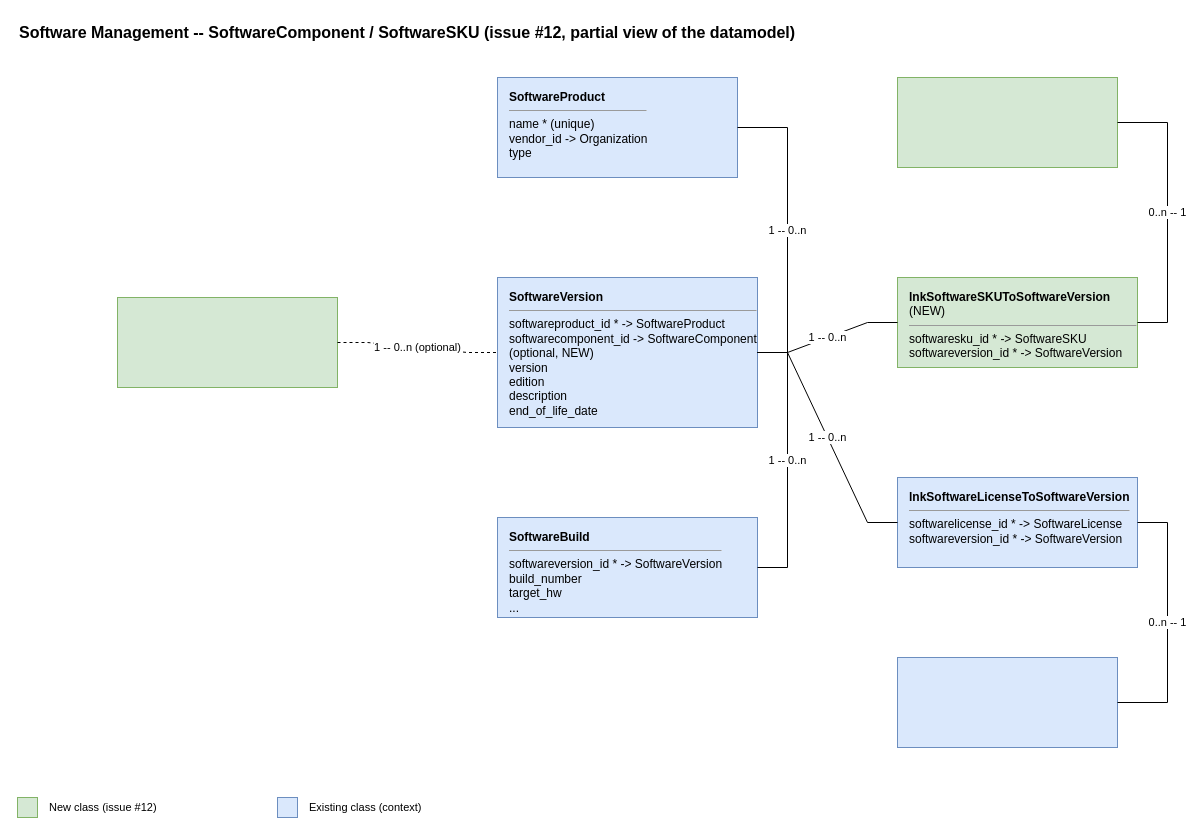
Some shapes in this 1204 by 836 pixel diagram are drawn without their labels. The shapes that lost their labels are listed below. From the top down, each one's box as (x1, y1, x2, y2) in pixels, then its label:
(896, 76, 1118, 168): SoftwareSKU (NEW) name * (unique) description
(116, 296, 338, 388): SoftwareComponent (NEW) name * (unique) description
(896, 656, 1118, 748): SoftwareLicense (parent: FunctionalCI) name * type ...
